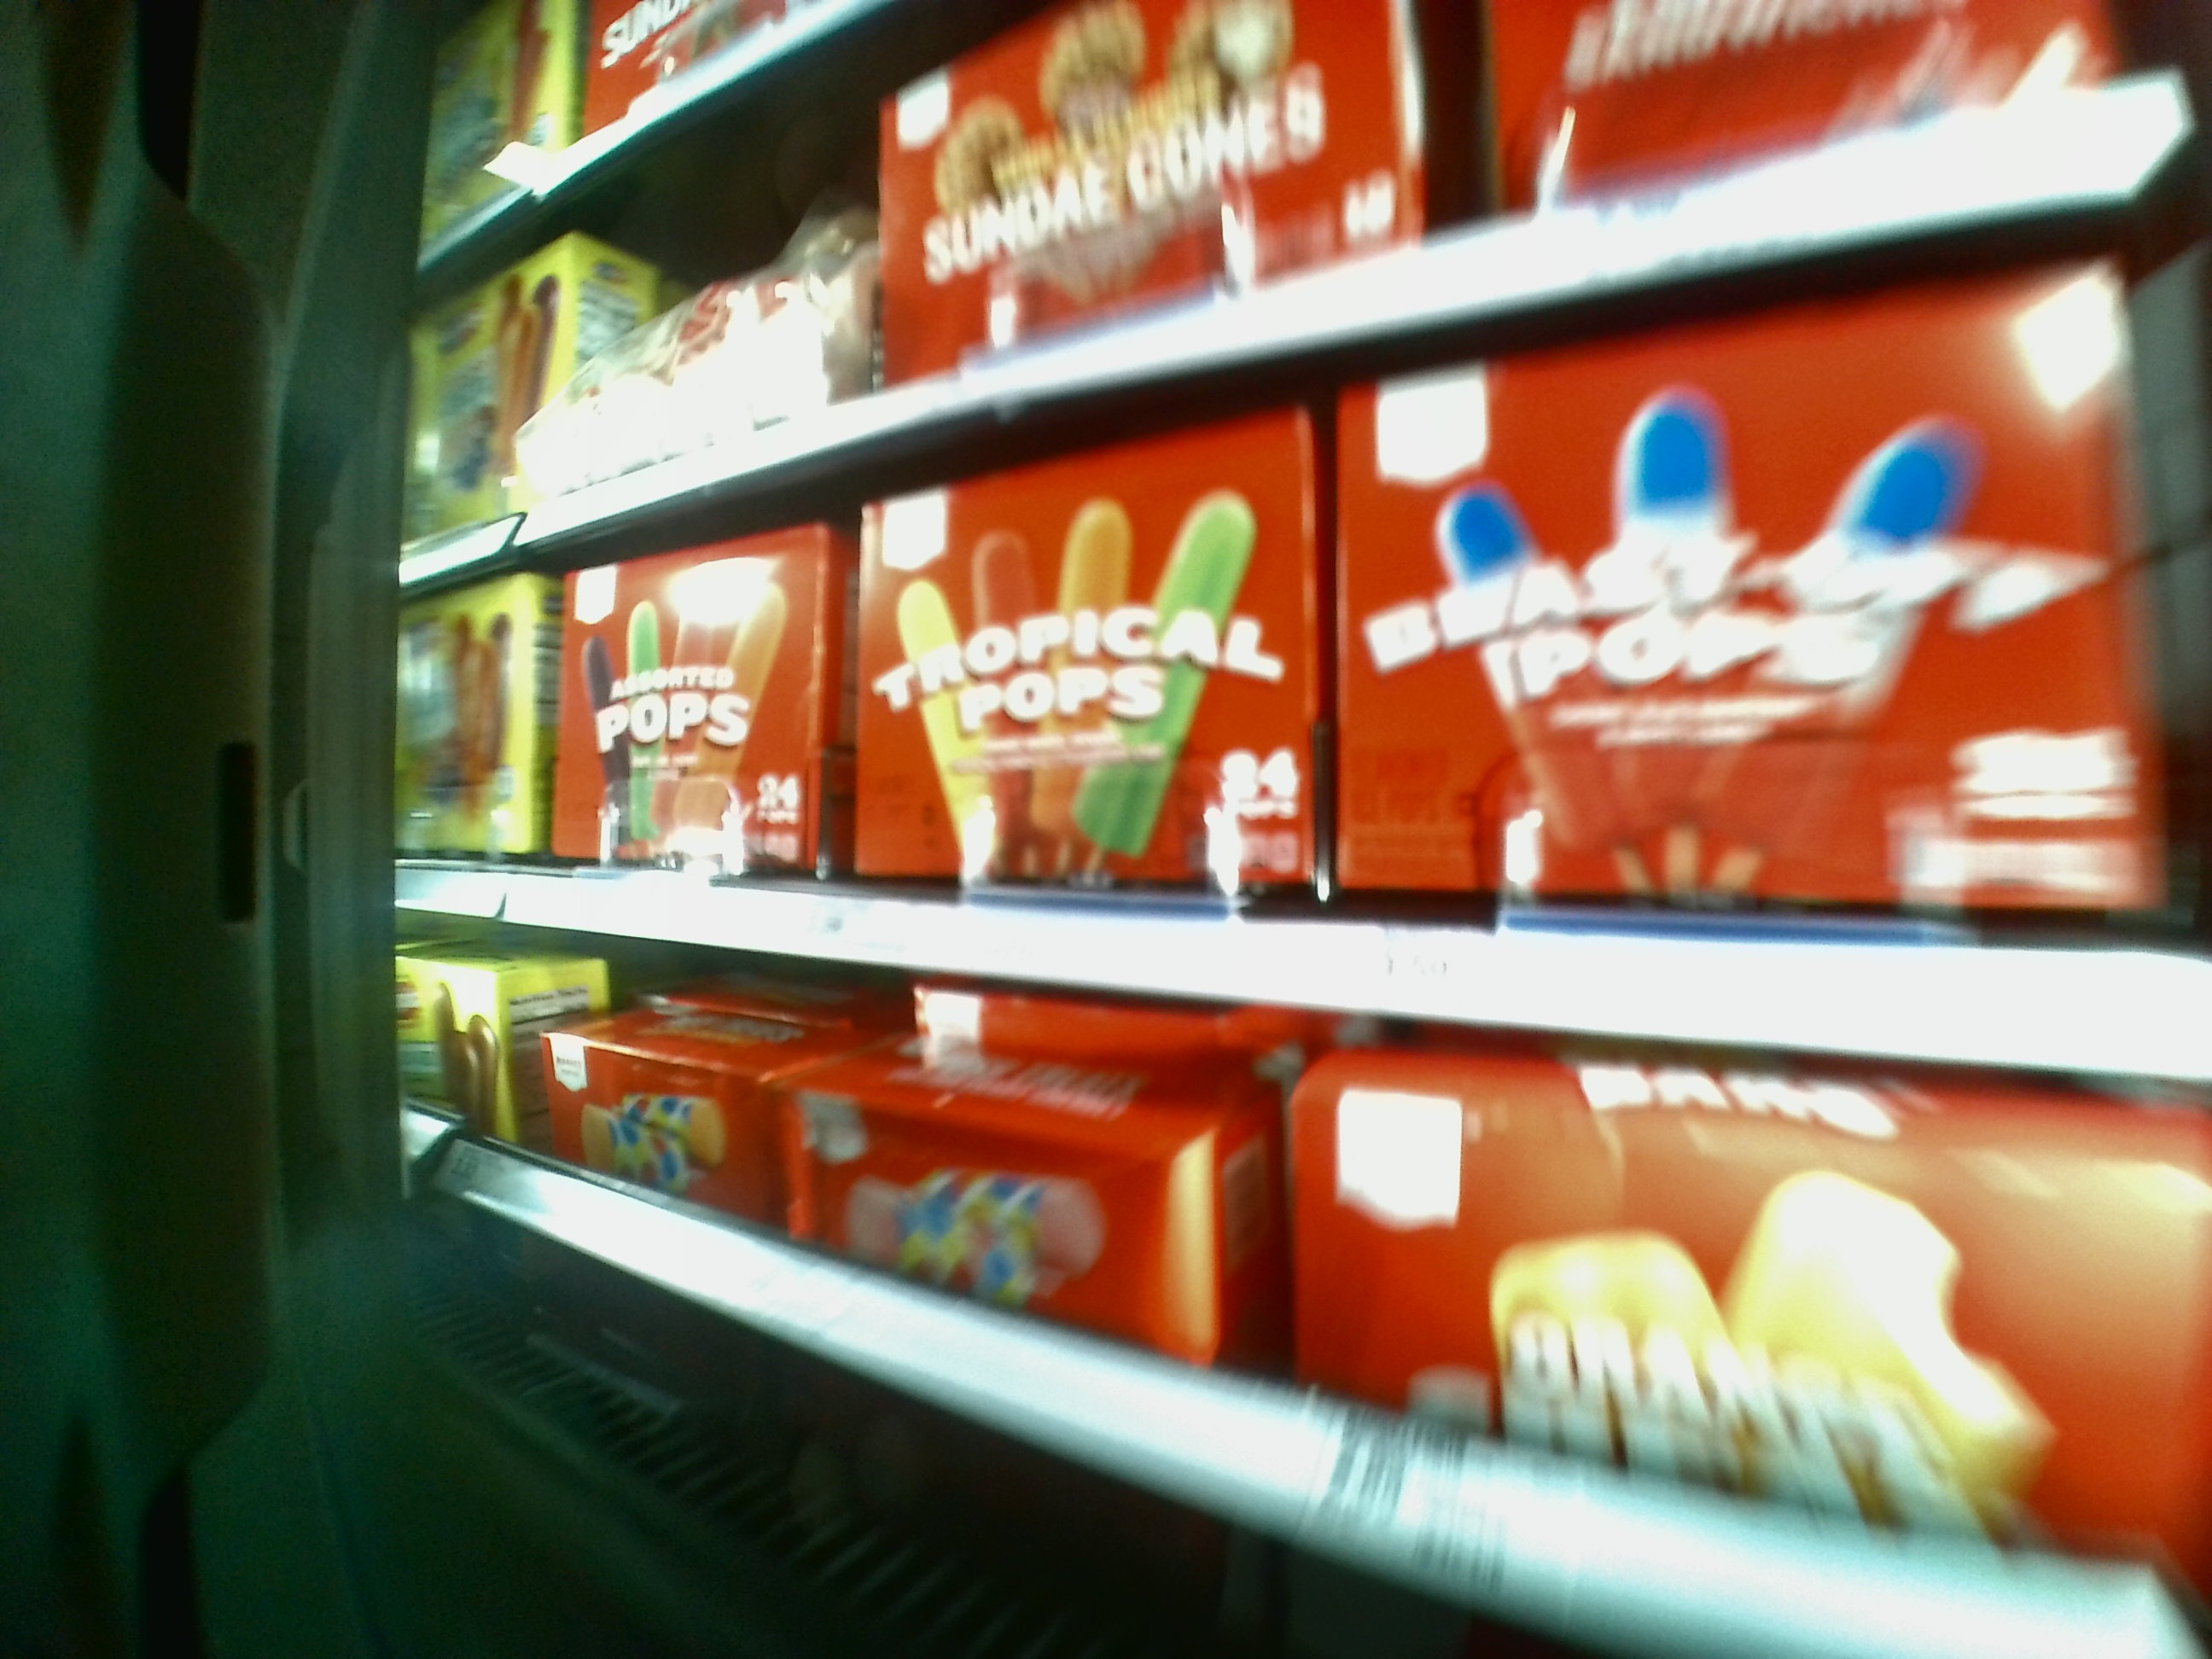shelf: (388, 929, 2212, 1638), (381, 495, 2212, 932), (392, 92, 2184, 516)
